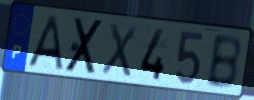4: (138, 26, 167, 82)
5: (172, 29, 207, 87)
A: (26, 14, 64, 72)
B: (204, 34, 243, 92)
X: (63, 16, 106, 76), (99, 21, 139, 80)
